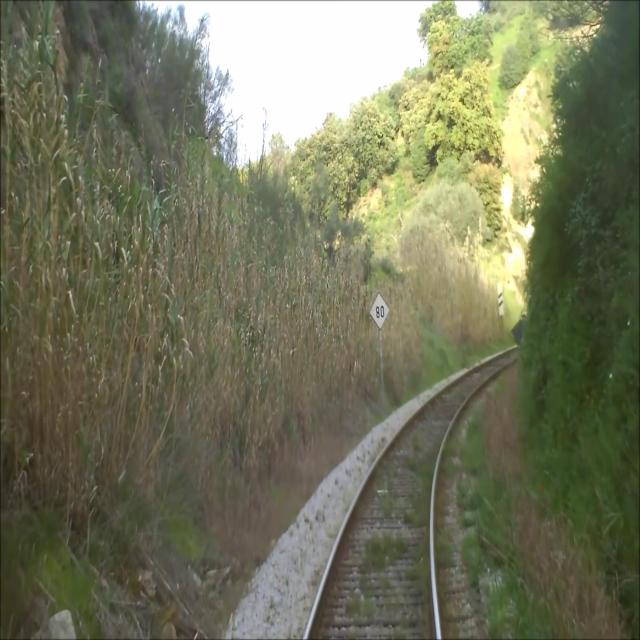rail-track: (307, 349, 518, 639)
